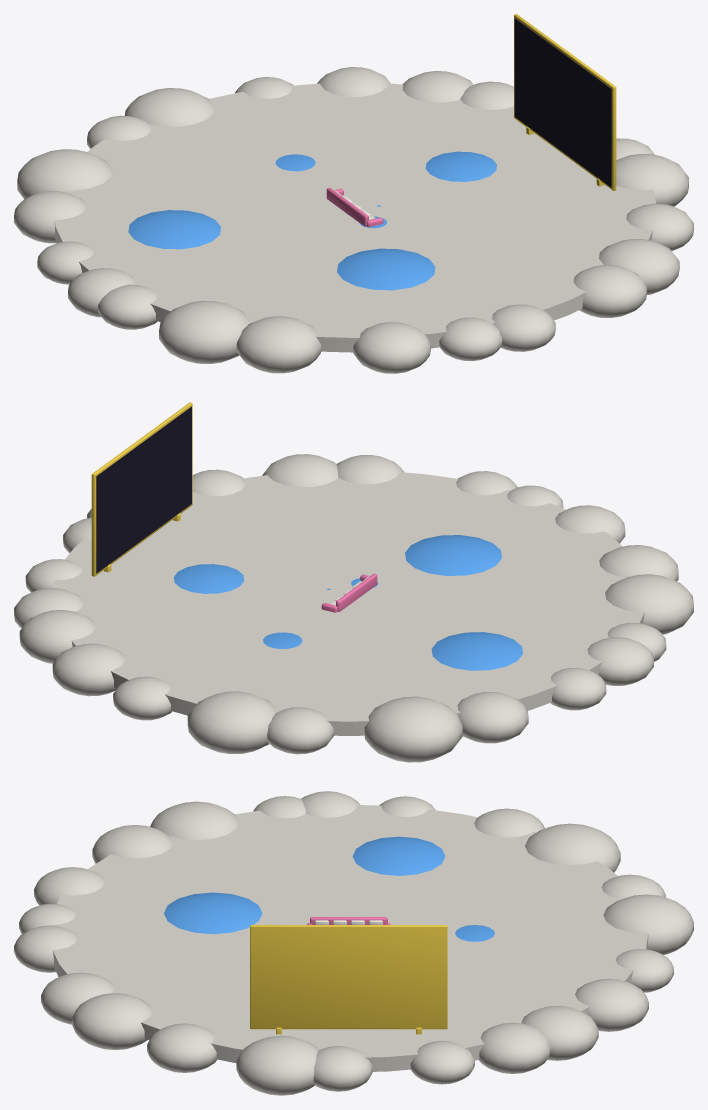
The model's file is heaven.glb.
3 renders of one model, top to bottom at view 1: azimuth 30°, elevation 25°; view 2: azimuth 150°, elevation 25°; view 3: azimuth 270°, elevation 25°, orthographic.
Visible parts, largest first — view 1: SM_Heaven_Cloud, SM_Heaven_Screen, SM_Heaven_Couch; view 2: SM_Heaven_Cloud, SM_Heaven_Screen, SM_Heaven_Couch; view 3: SM_Heaven_Cloud, SM_Heaven_Screen, SM_Heaven_Couch.
Boxes of the visible parts, x1=… form: SM_Heaven_Cloud: x1=14, y1=67, x2=693, y2=373; SM_Heaven_Screen: x1=514, y1=14, x2=616, y2=190; SM_Heaven_Couch: x1=326, y1=187, x2=383, y2=227; SM_Heaven_Cloud: x1=14, y1=454, x2=693, y2=762; SM_Heaven_Screen: x1=91, y1=402, x2=192, y2=576; SM_Heaven_Couch: x1=321, y1=573, x2=377, y2=612; SM_Heaven_Cloud: x1=14, y1=791, x2=693, y2=1095; SM_Heaven_Screen: x1=250, y1=925, x2=447, y2=1034; SM_Heaven_Couch: x1=307, y1=917, x2=390, y2=924.
Size of the model in its own units: 33.7 by 9.15 by 34.02.
